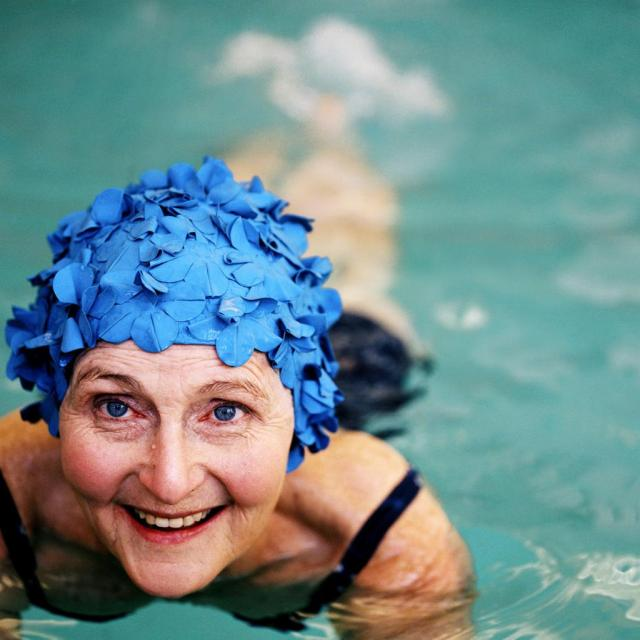Face: (56, 305, 307, 608)
